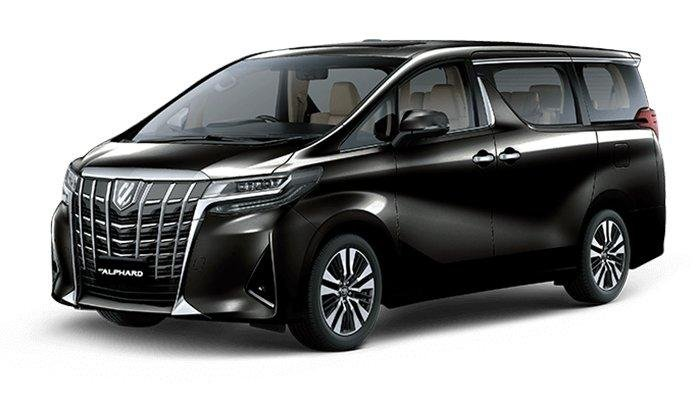mobil: (51, 25, 682, 359)
